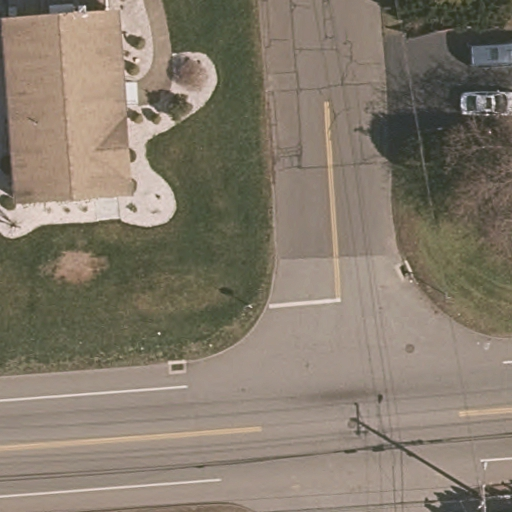DT: (465, 450, 510, 512)
